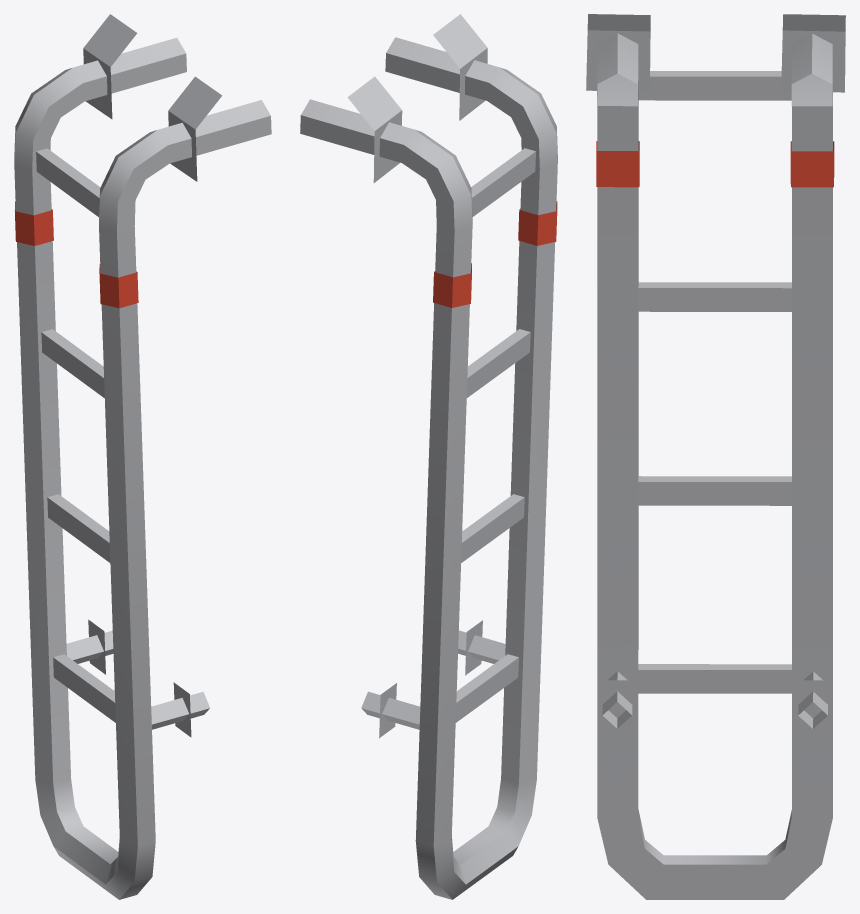
Rendered from Truck_Ladder.fbx.
The picture shows the model from 3 angles, left to right: view 1: azimuth 30°, elevation 25°; view 2: azimuth 150°, elevation 25°; view 3: azimuth 270°, elevation 25°; orthographic projection. The views are drawn at different scales.
Visible parts, largest first — view 1: Truck_Ladder; view 2: Truck_Ladder; view 3: Truck_Ladder.
Part boxes in pixels (x1,y1,x2,y2): Truck_Ladder: (14, 14, 271, 899); Truck_Ladder: (300, 14, 557, 899); Truck_Ladder: (586, 14, 845, 899).
Size of the model in its own units: 77.4 by 363 by 92.81.
